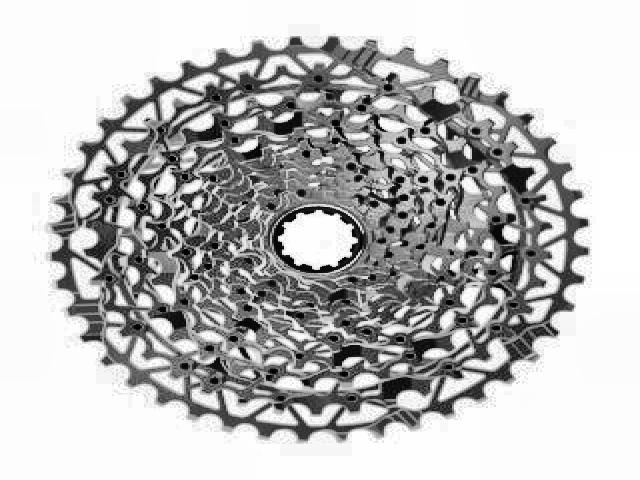cassette: (50, 35, 593, 441)
